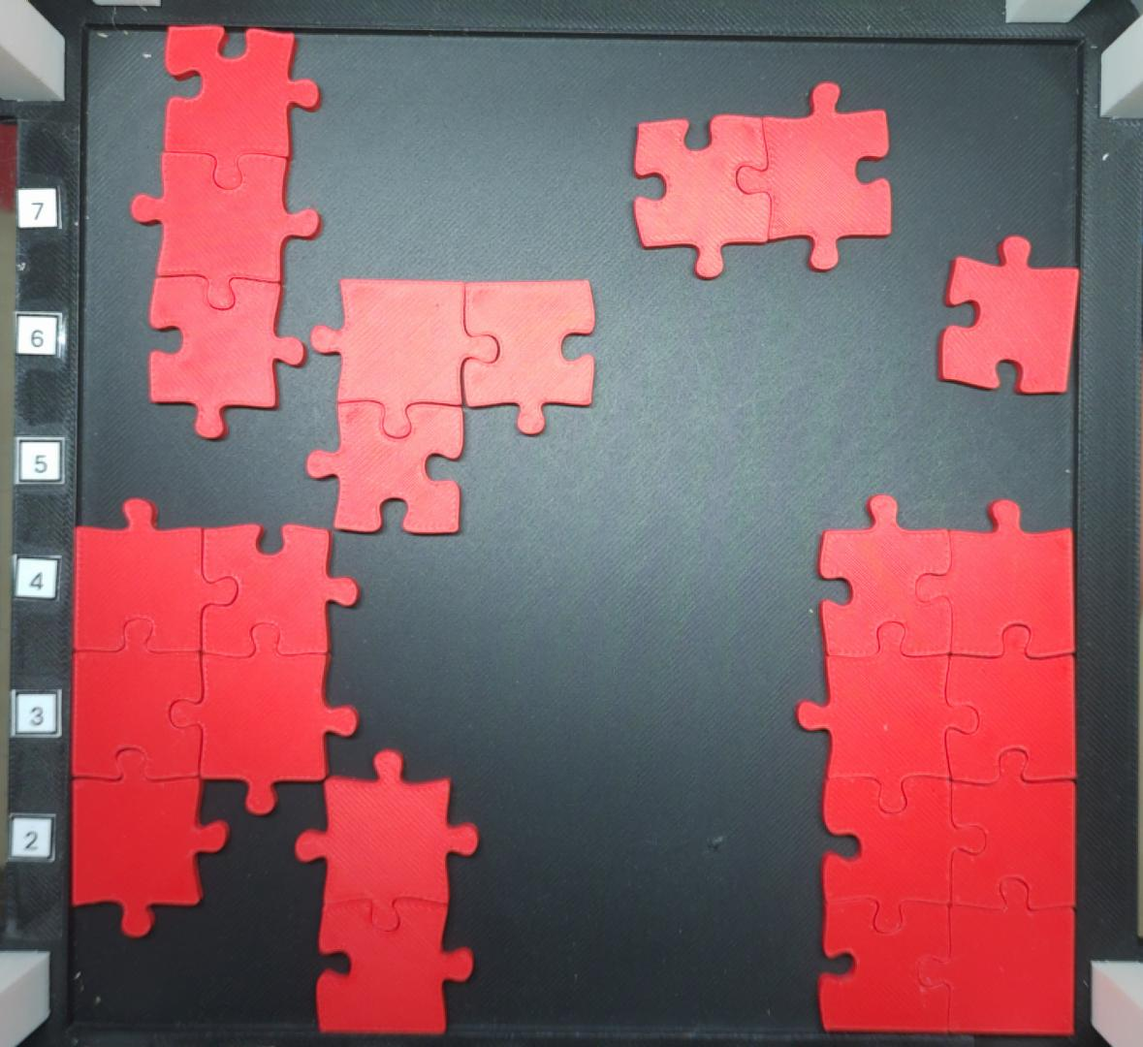p_1: (937, 234, 1080, 395)
p_2: (295, 750, 482, 1038), (629, 82, 898, 276)
p_3: (132, 24, 323, 441), (307, 276, 600, 537)
p_m: (793, 493, 1079, 1036), (64, 498, 363, 935)
